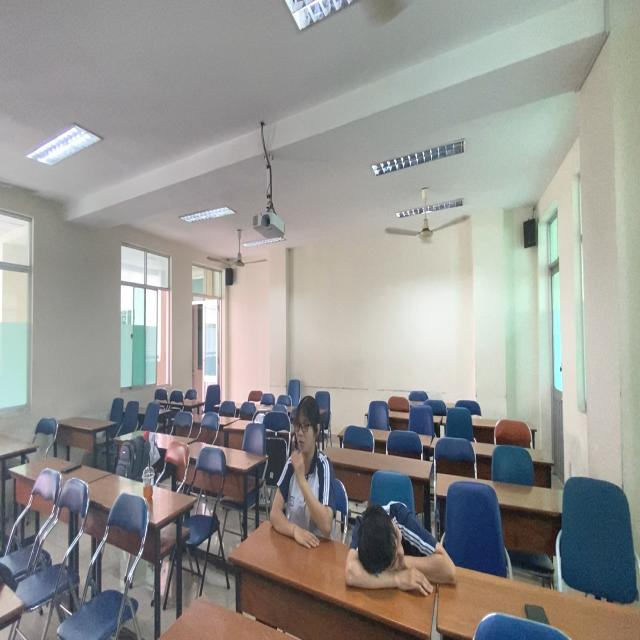sleep: (345, 499, 464, 609)
